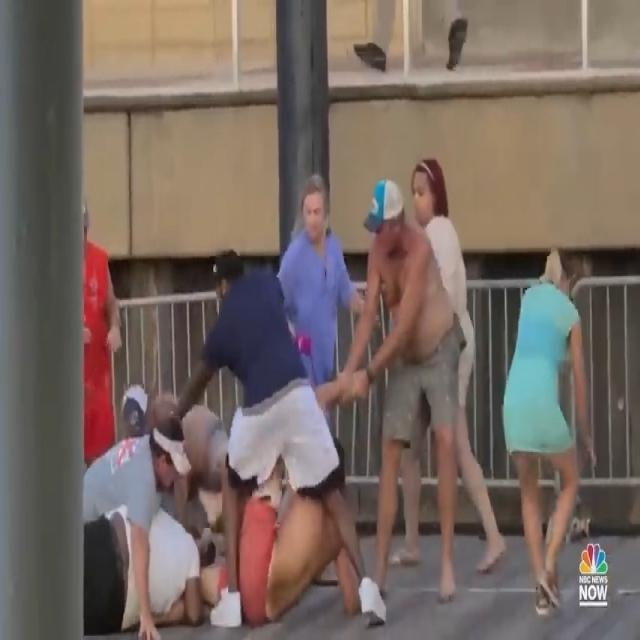fight: (82, 123, 503, 640)
non-fight: (500, 236, 598, 626)
